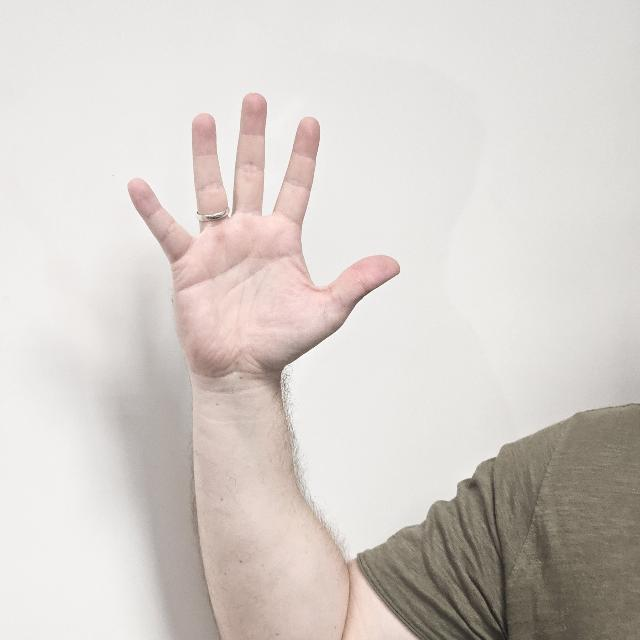X: (122, 91, 404, 461)
